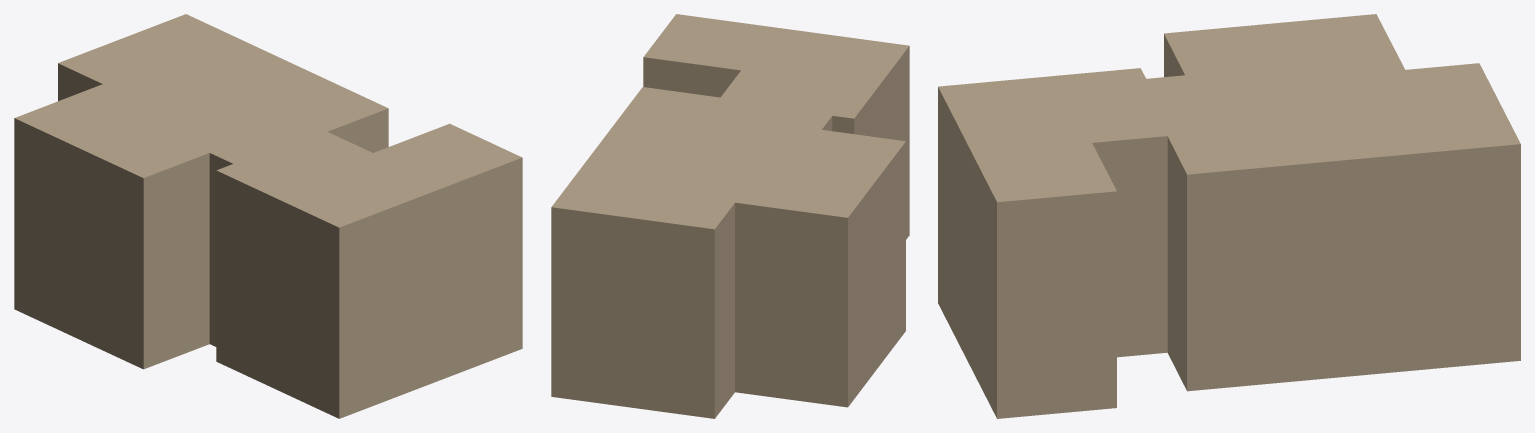
File: bld_99867632.dae
3 views of the same model, side by side, from view 1: azimuth 30°, elevation 25°; view 2: azimuth 150°, elevation 25°; view 3: azimuth 270°, elevation 25° (orthographic). The views are drawn at different scales.
Parts seen in each view (by area): view 1: bld_99867632; view 2: bld_99867632; view 3: bld_99867632.
Part boxes in pixels (box(x1,y1,x2,y2)): bld_99867632: box(14, 14, 522, 418); bld_99867632: box(551, 14, 909, 418); bld_99867632: box(938, 14, 1520, 418).
Size of the model in its own units: 14.91 by 19.51 by 8.
